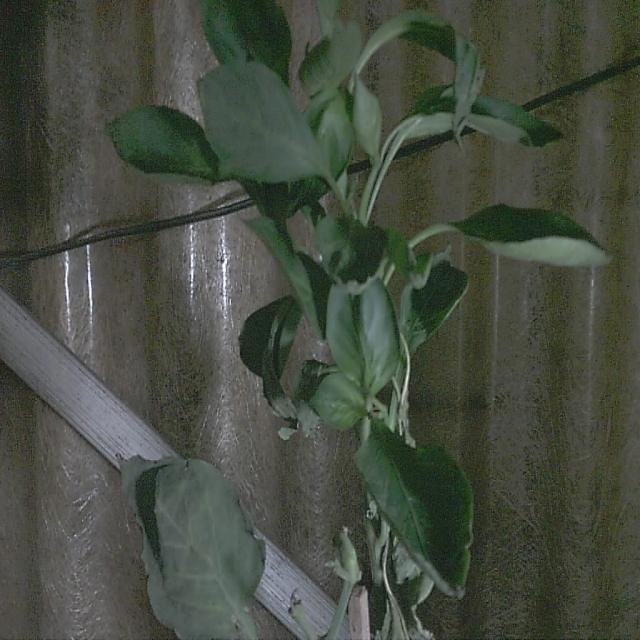Leaf: (115, 454, 267, 640), (353, 425, 473, 602), (195, 61, 322, 182), (450, 203, 615, 270), (103, 101, 220, 185), (313, 212, 388, 295)
